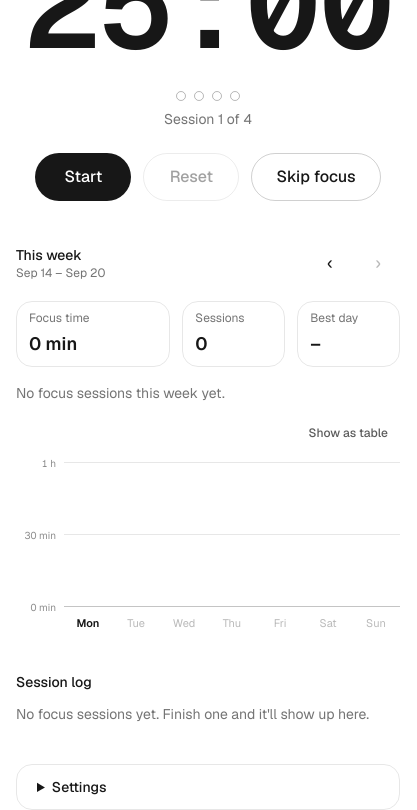
Scenario: system notifications › explain the fallback when the browser refuses to show them (Android Chrome)
(page scrolled)
Click the heading "Settings". click: (79, 786)
box: x1=52 y1=778 x2=106 y2=796
(page scrolled)
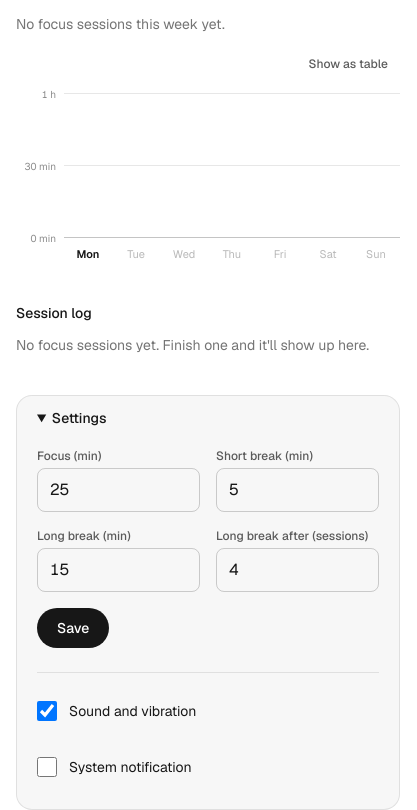
Click the checkbox labelled "System notification". click: (47, 766)
box: x1=37 y1=756 x2=57 y2=776
(page scrolled)
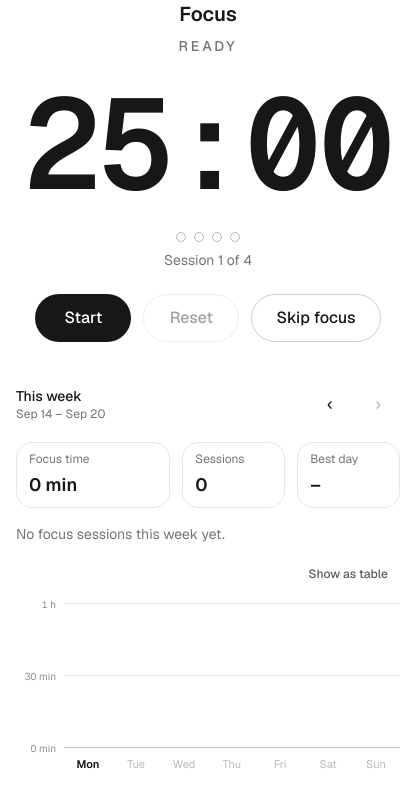
Click the button "Start". click: (83, 318)
box: x1=35 y1=294 x2=131 y2=342
Wait 1500000 ms
(page scrolled)
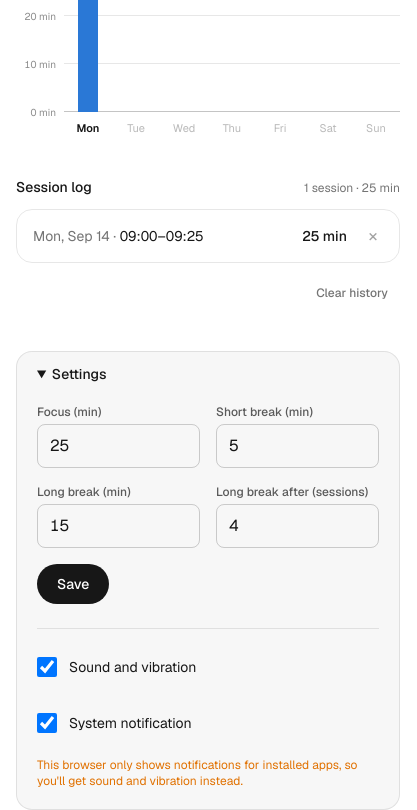
Result: the message shows "sound and vibration instead" at x1=37 y1=756 x2=357 y2=788
